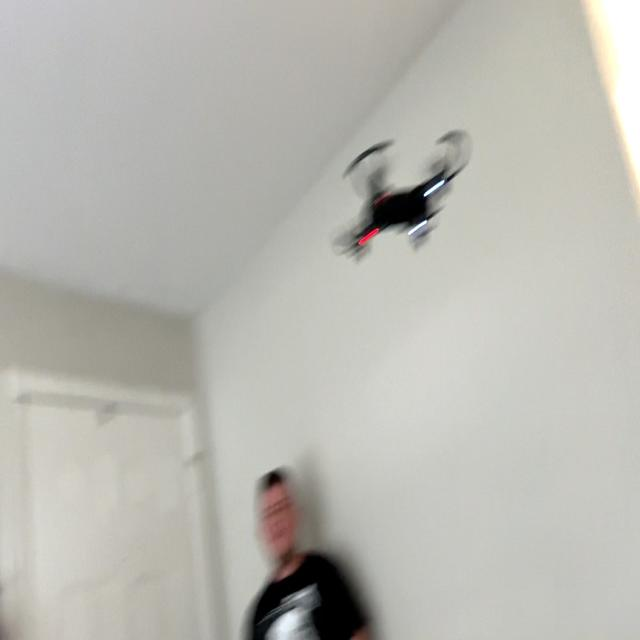drone: (318, 114, 482, 278)
